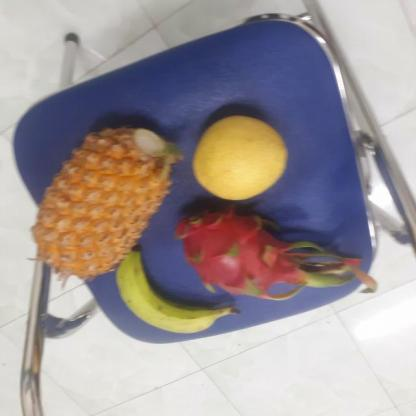banana: (111, 249, 227, 335)
guava: (189, 113, 288, 198)
pineapple: (31, 127, 174, 274)
pitaya: (172, 202, 308, 300)
